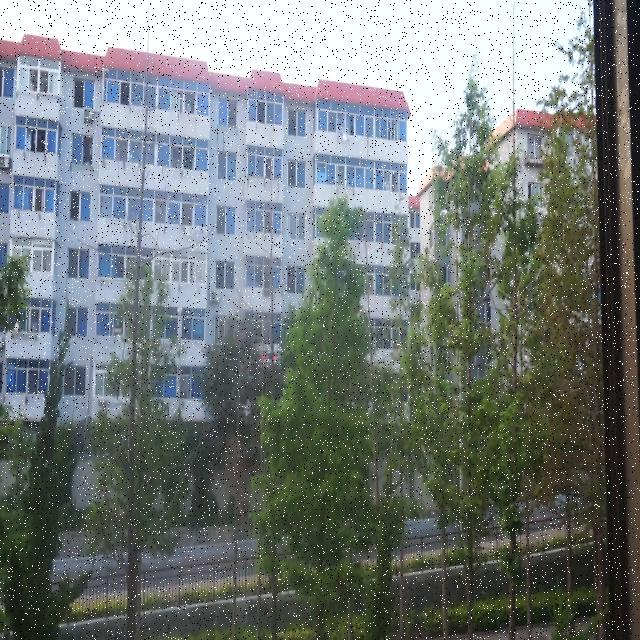UAV: (262, 351, 276, 360)
